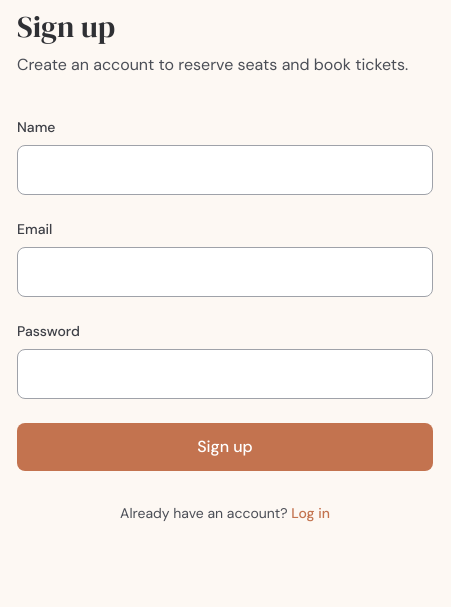
RegisterPage › shows error when registration fails
In the field labelled "Name": (225, 170) [17,145,433,195], type "Bob"
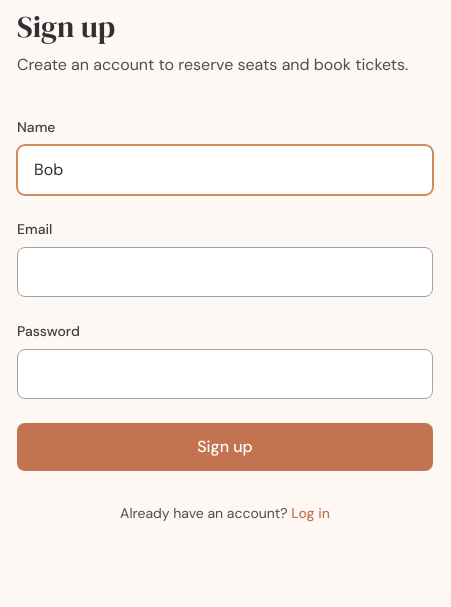
In the field labelled "Email": (225, 272) [17,247,433,297], type "bob@example.com"
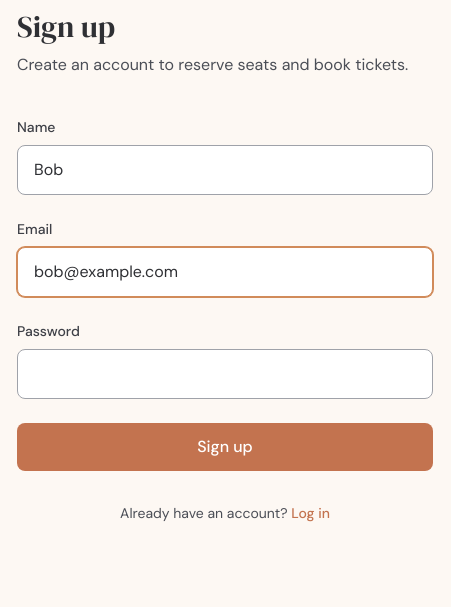
In the password field labelled "Password": (225, 374) [17,349,433,399], type "pass"
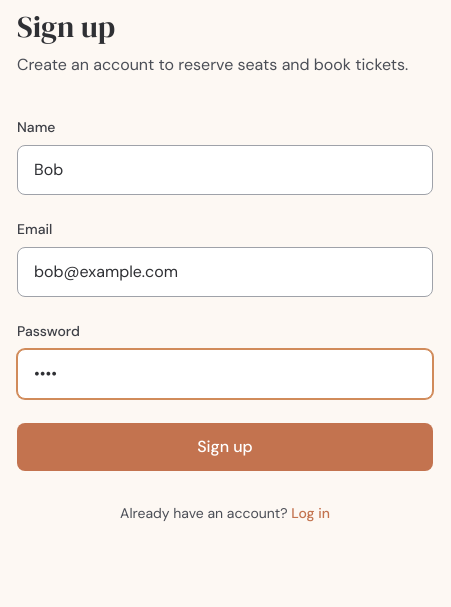
Click the button "Sign up": (225, 447) [17,423,433,471]
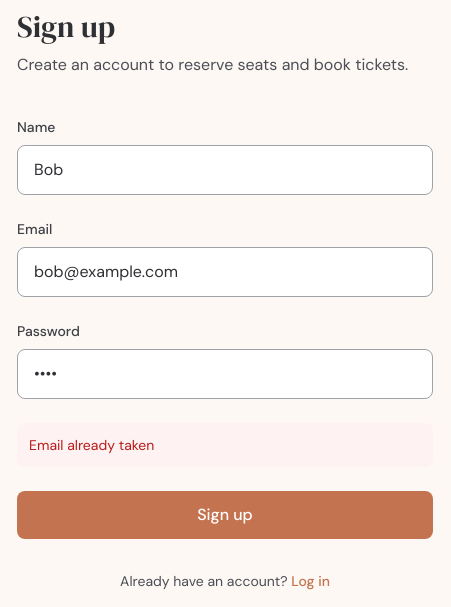
Check: the text "Email already taken" is shown, box [17,423,433,467]
